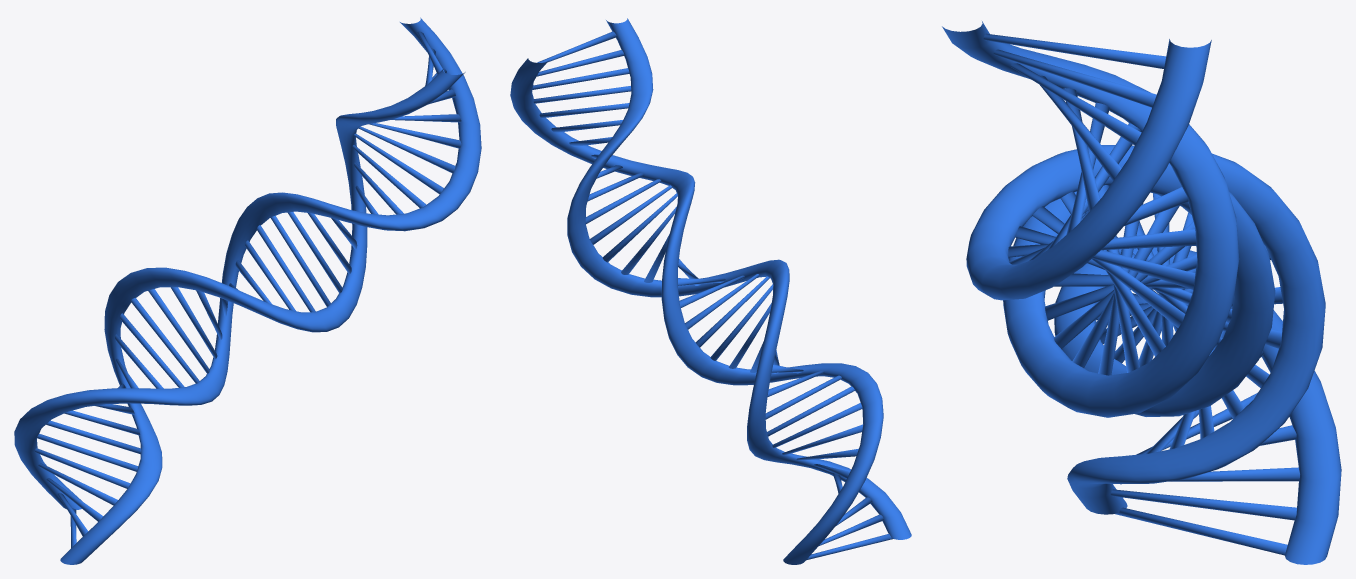
The picture shows the model from 3 angles, left to right: view 1: azimuth 30°, elevation 25°; view 2: azimuth 150°, elevation 25°; view 3: azimuth 270°, elevation 25°; orthographic projection. The views are drawn at different scales.
Parts seen in each view (by area): view 1: Cylinder; view 2: Cylinder; view 3: Cylinder.
Part boxes in pixels (box(x1,y1,x2,y2)): Cylinder: box(14, 17, 481, 564); Cylinder: box(510, 18, 911, 564); Cylinder: box(942, 21, 1341, 564).
Size of the model in its own units: 3.71 by 3.74 by 1.73.
